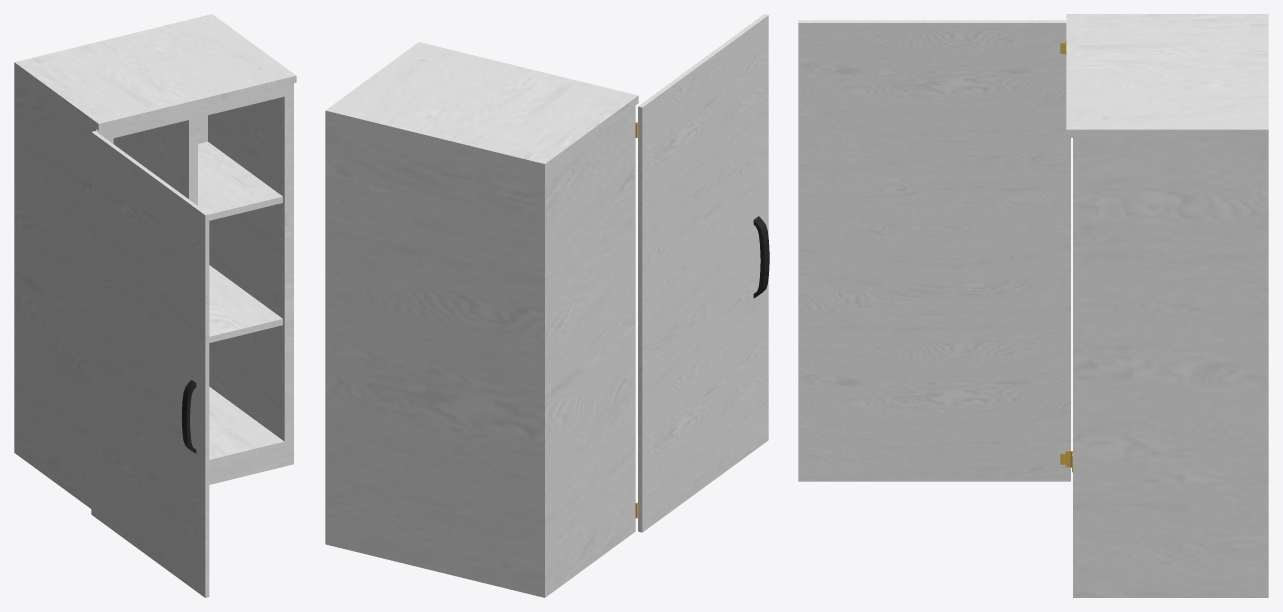
File: Closet44.fbx
The picture shows the model from 3 angles, left to right: view 1: azimuth 30°, elevation 25°; view 2: azimuth 150°, elevation 25°; view 3: azimuth 270°, elevation 25°; orthographic projection. The views are drawn at different scales.
Parts seen in each view (by area): view 1: Closet44, Closet44Door; view 2: Closet44, Closet44Door; view 3: Closet44Door, Closet44.
Part boxes in pixels (x1,y1,x2,y2): Closet44: [14, 14, 296, 508]; Closet44Door: [91, 131, 209, 597]; Closet44: [325, 42, 638, 597]; Closet44Door: [635, 14, 769, 532]; Closet44Door: [798, 20, 1072, 481]; Closet44: [1066, 14, 1268, 597].
Bounding box in the file's own units: 66.96 × 117 × 107.
